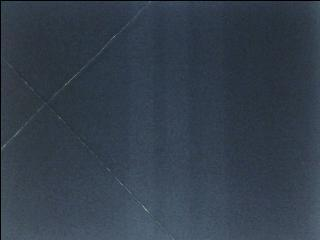crack: (0, 53, 175, 240), (0, 0, 153, 149)
